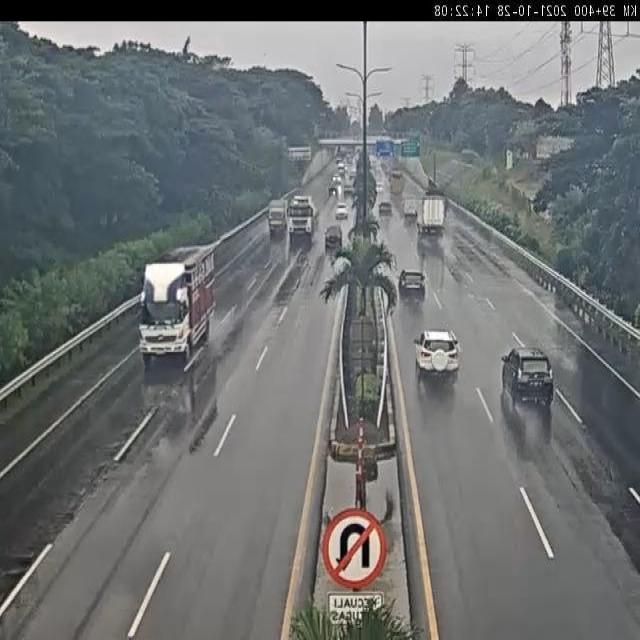Car: (498, 346, 558, 402), (416, 329, 460, 374), (396, 265, 425, 297), (324, 226, 344, 256), (377, 200, 395, 220), (334, 201, 350, 220)
Truck: (134, 246, 210, 378), (285, 191, 314, 251), (414, 191, 446, 238), (266, 198, 284, 235)
